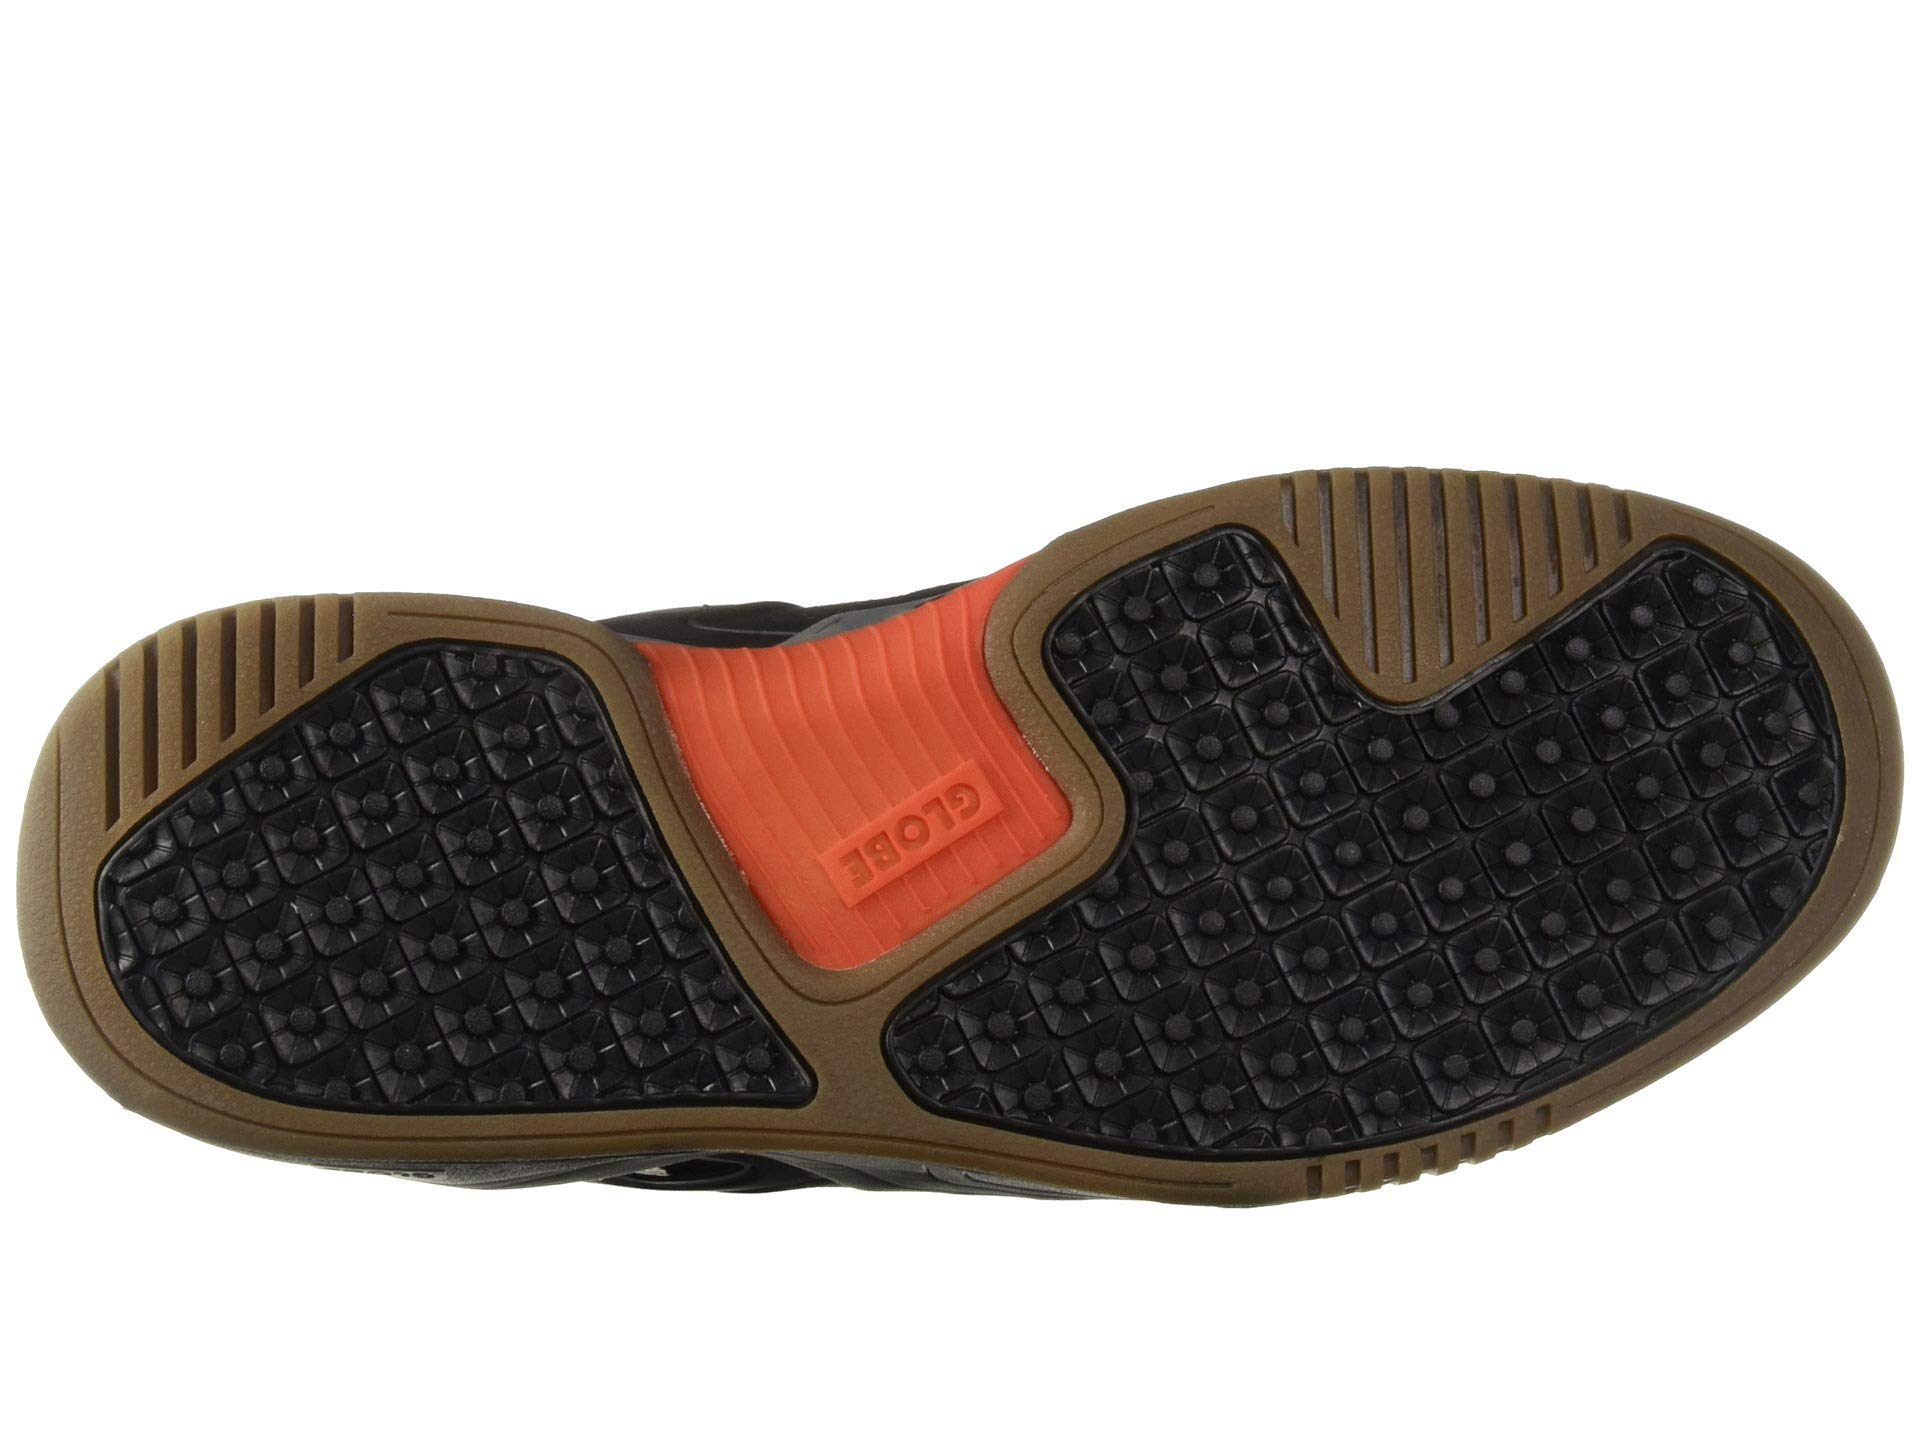circle: (1179, 691, 1719, 1004), (228, 744, 603, 1069), (757, 666, 1020, 926)
line: (757, 666, 1020, 926), (1274, 448, 1590, 616), (110, 635, 348, 703)
quad: (1179, 691, 1719, 1004), (228, 744, 603, 1069), (757, 666, 1020, 926)
text: (757, 666, 1020, 926)
